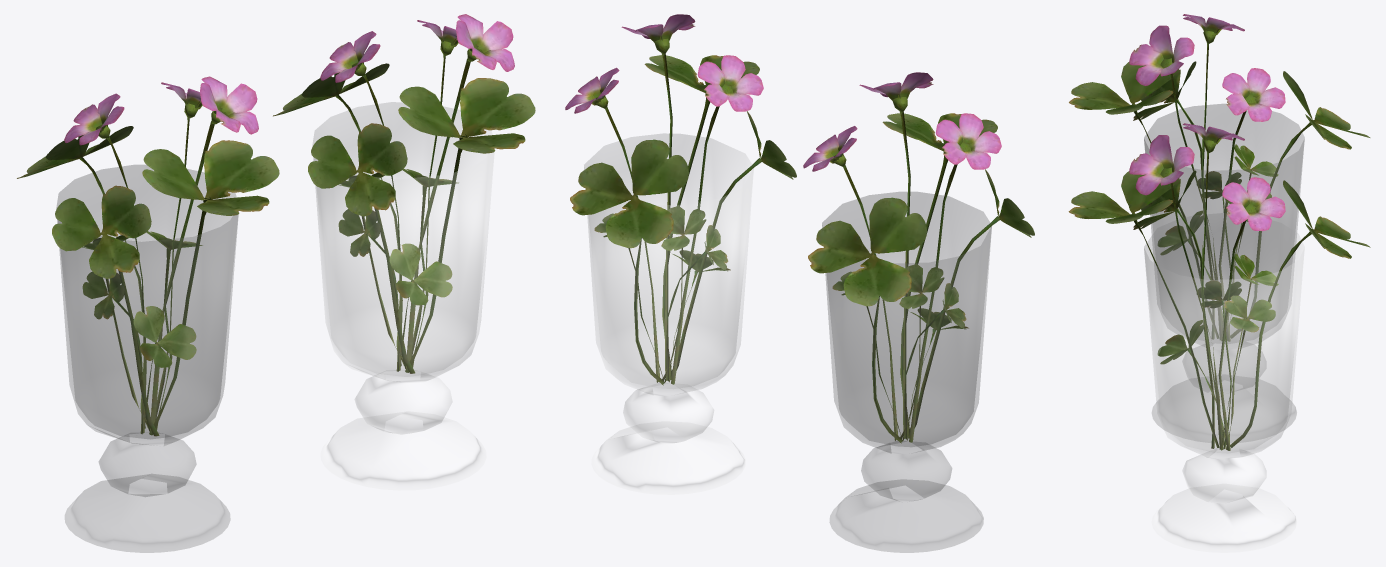
Rendered from GlassVaseFlowers.glb.
3 views of the same model, side by side, from view 1: azimuth 30°, elevation 25°; view 2: azimuth 150°, elevation 25°; view 3: azimuth 270°, elevation 25° (orthographic). The views are drawn at different scales.
Visible parts, largest first — view 1: Flowers1, GlassAlpha, GlassTransmission; view 2: Flowers1, GlassAlpha, GlassTransmission; view 3: GlassTransmission, Flowers1, GlassAlpha.
Boxes of the visible parts, bbox=[...] form: Flowers1: bbox=[17, 14, 535, 436]; GlassAlpha: bbox=[56, 165, 238, 552]; GlassTransmission: bbox=[312, 102, 494, 490]; Flowers1: bbox=[565, 14, 1034, 443]; GlassAlpha: bbox=[822, 192, 991, 552]; GlassTransmission: bbox=[584, 133, 753, 494]; GlassTransmission: bbox=[1144, 213, 1304, 552]; Flowers1: bbox=[1068, 14, 1370, 450]; GlassAlpha: bbox=[1144, 104, 1304, 442].
Size of the model in its own units: 0.2173 by 0.2032 by 0.1425.
Materials: 3 (1 with a texture image).
